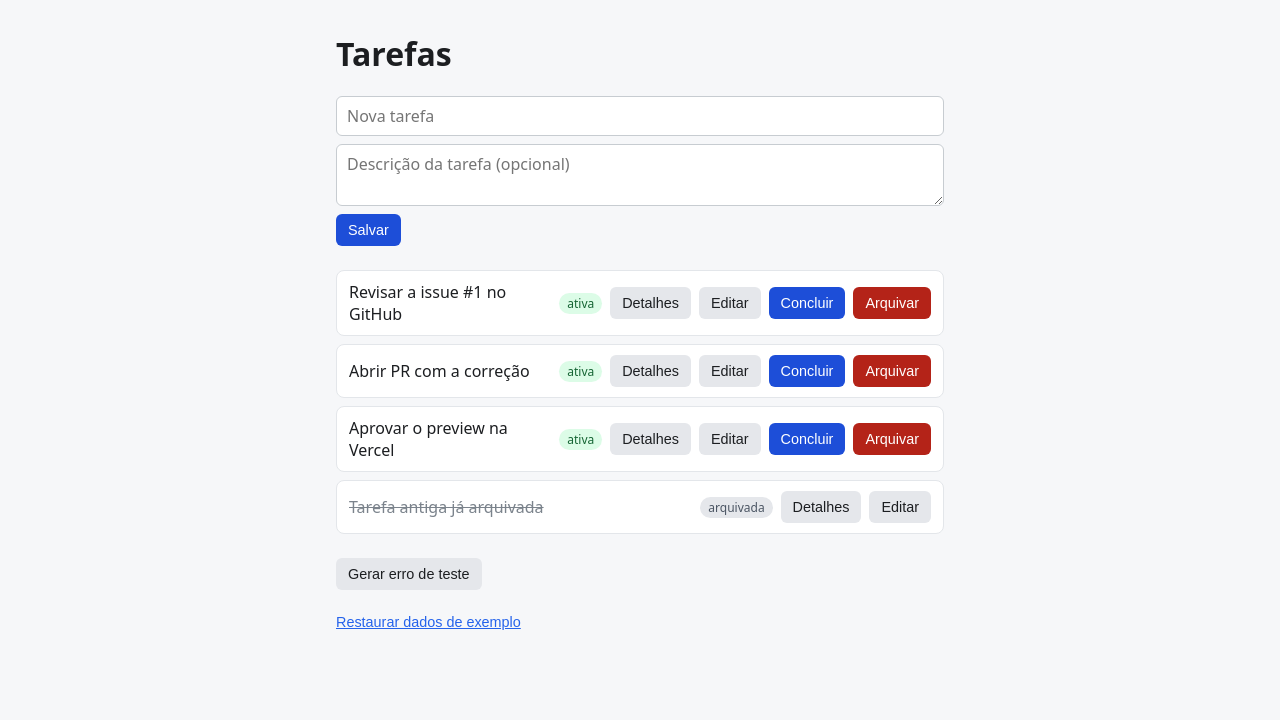
Test case: Page › explica o erro proposital e cancela sem enviar evento ao Sentry
This screenshot has width=1280, height=720.
Click the button "Gerar erro de teste": (409, 574) [336,558,482,590]
(page scrolled)
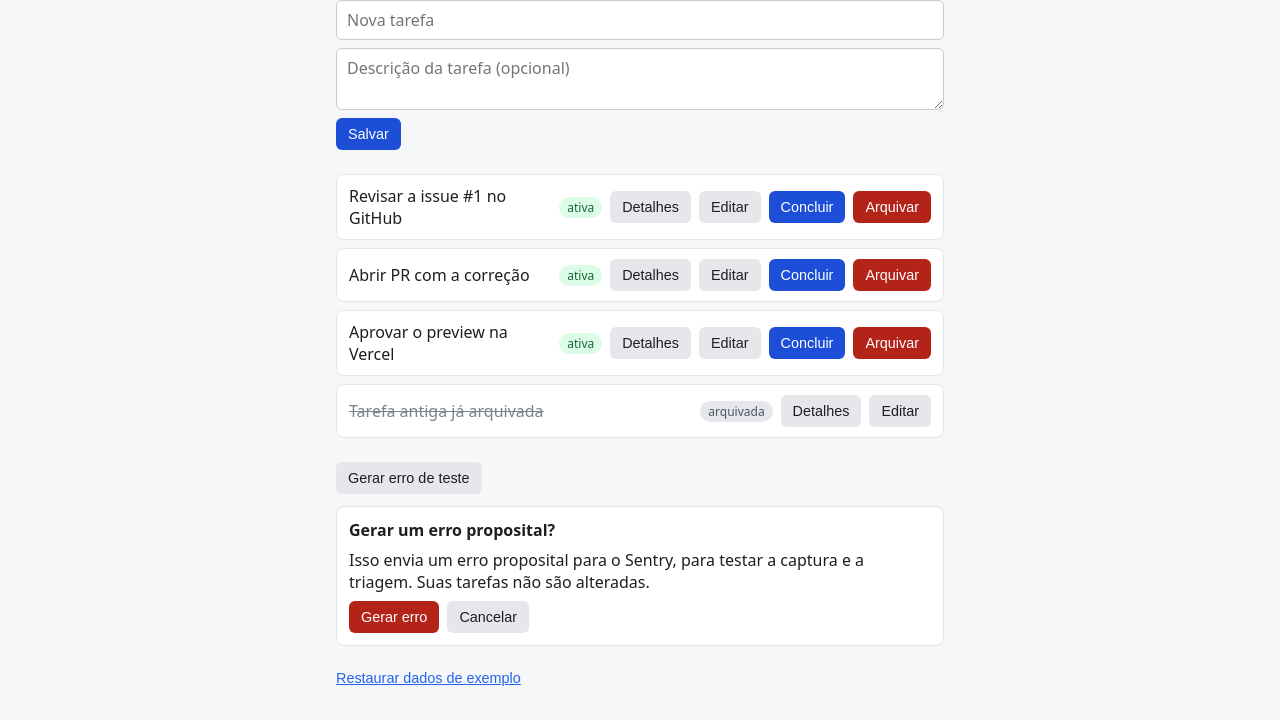
Now the text "erro proposital para o Sentry" is shown, box [349,549,864,593]
Click the button "Cancelar": (488, 617) [447,601,529,633]
(page scrolled)
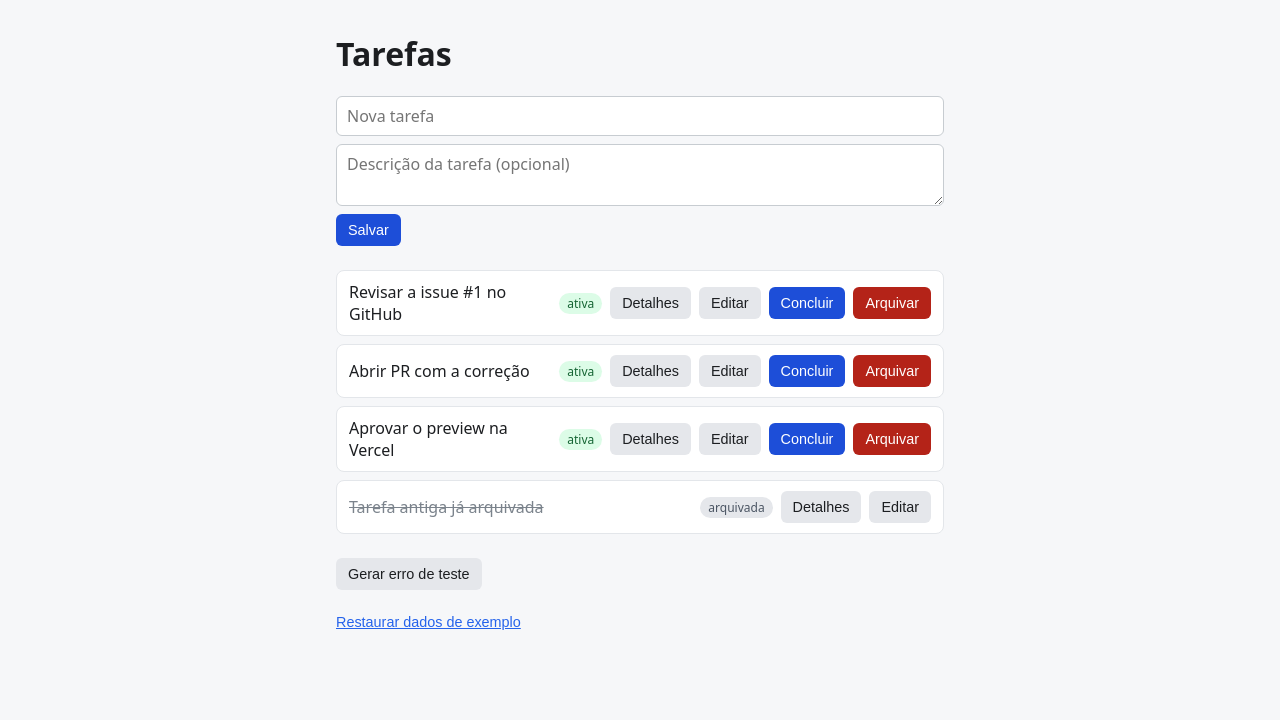
Now the dialog is gone
